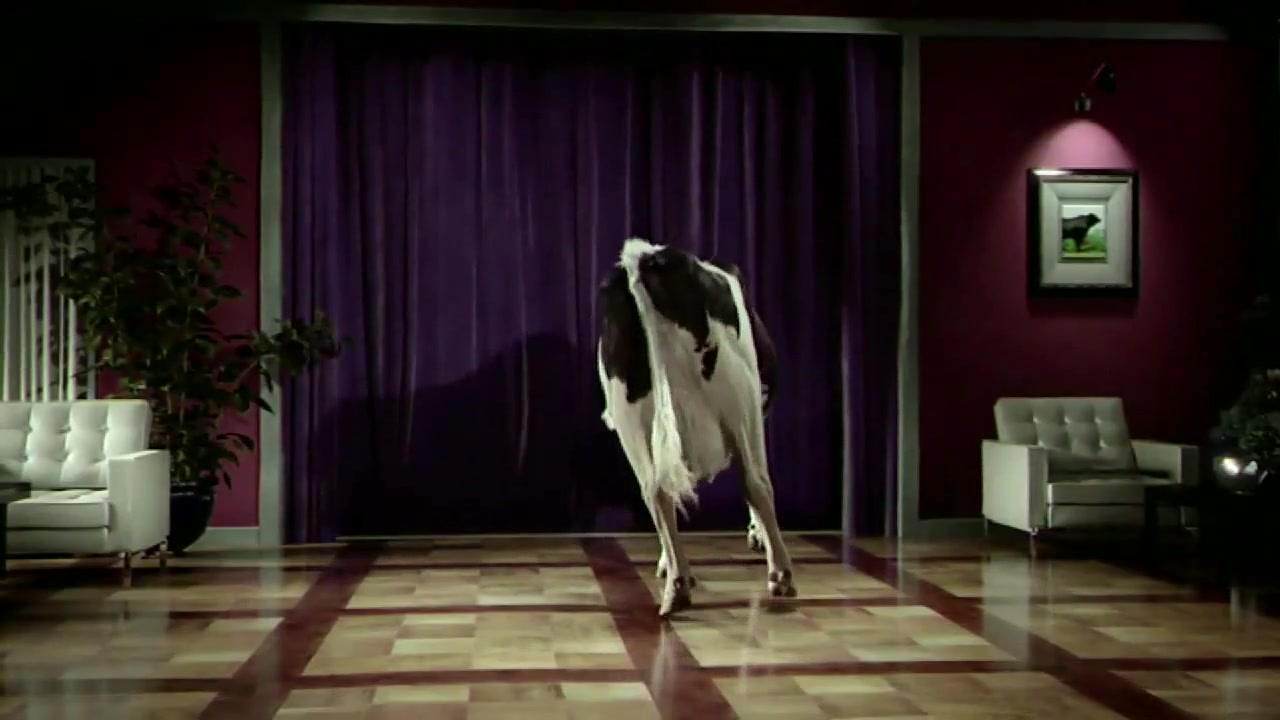cow: (593, 238, 799, 619)
